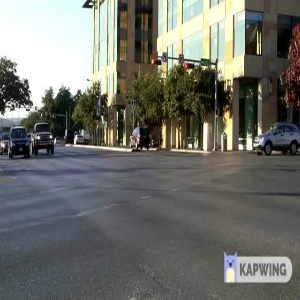suv: (249, 119, 300, 156), (119, 125, 157, 149)
truck: (32, 120, 57, 155)
van: (4, 124, 36, 161)
